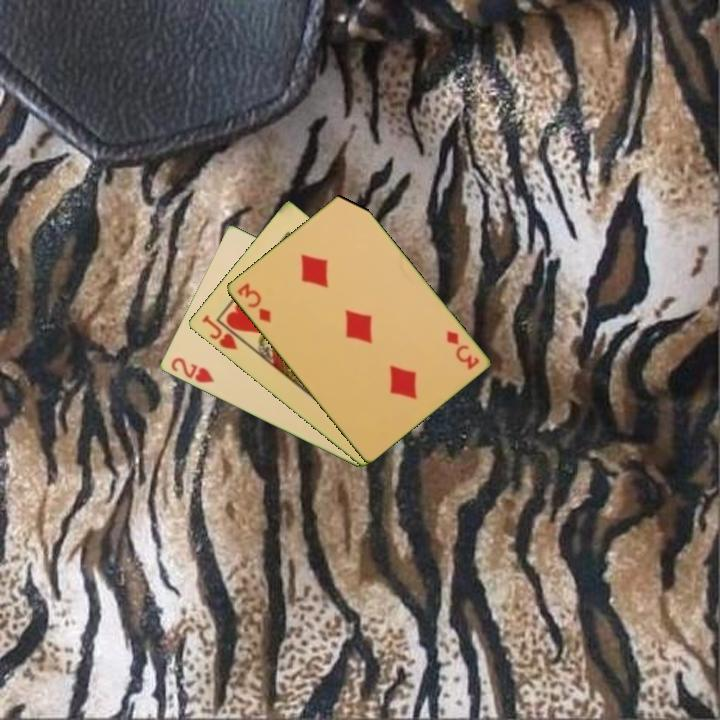2h: (167, 354, 217, 386)
3d: (233, 279, 274, 326), (442, 327, 482, 372)
Jh: (198, 311, 249, 353)
